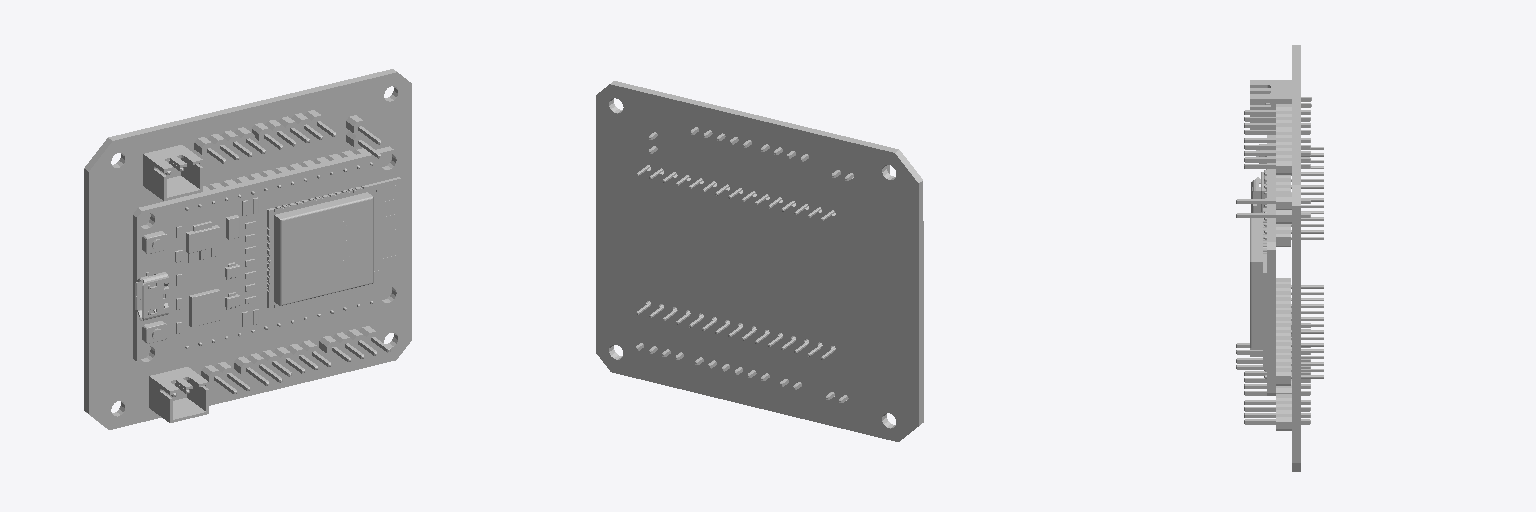
Rendered from ESP32 DevKit Pin-Out Board v7.obj.
3 renders of one model, left to right at view 1: azimuth 30°, elevation 25°; view 2: azimuth 150°, elevation 25°; view 3: azimuth 270°, elevation 25°, orthographic.
Visible parts, largest first — view 1: Solid1, Solid1:5, Solid1:7, Solid1:11, Solid1:12, Solid1:10, Solid1:6, Solid1:3, Solid1:8, Solid1:4, Solid1:2, Solid1:1 (+1 smaller); view 2: Solid1, Solid1:5; view 3: Solid1:5, Solid1, Solid1:7, Solid1:10, Solid1:8, Solid1:11, Solid1:3, Solid1:2, Solid1:4.
Boxes of the visible parts, <box> form: Solid1: <box>84,69,411,429</box>; Solid1:5: <box>133,146,398,365</box>; Solid1:7: <box>267,177,400,307</box>; Solid1:11: <box>143,145,202,200</box>; Solid1:12: <box>149,367,208,422</box>; Solid1:10: <box>252,110,335,149</box>; Solid1:6: <box>135,272,169,320</box>; Solid1:3: <box>194,127,265,163</box>; Solid1:8: <box>319,326,390,361</box>; Solid1:4: <box>260,340,330,376</box>; Solid1:2: <box>346,115,380,158</box>; Solid1:1: <box>234,353,282,385</box>; Solid1: <box>596,81,923,441</box>; Solid1:5: <box>636,165,835,359</box>; Solid1:5: <box>1256,135,1323,395</box>; Solid1: <box>1292,45,1300,471</box>; Solid1:7: <box>1250,208,1267,369</box>; Solid1:10: <box>1244,132,1310,174</box>; Solid1:8: <box>1244,394,1310,430</box>; Solid1:11: <box>1250,80,1311,129</box>; Solid1:3: <box>1244,104,1310,134</box>; Solid1:2: <box>1236,193,1310,223</box>; Solid1:4: <box>1244,366,1310,395</box>.
Bounding box in the file's own units: 62.22 × 53.12 × 14.77.